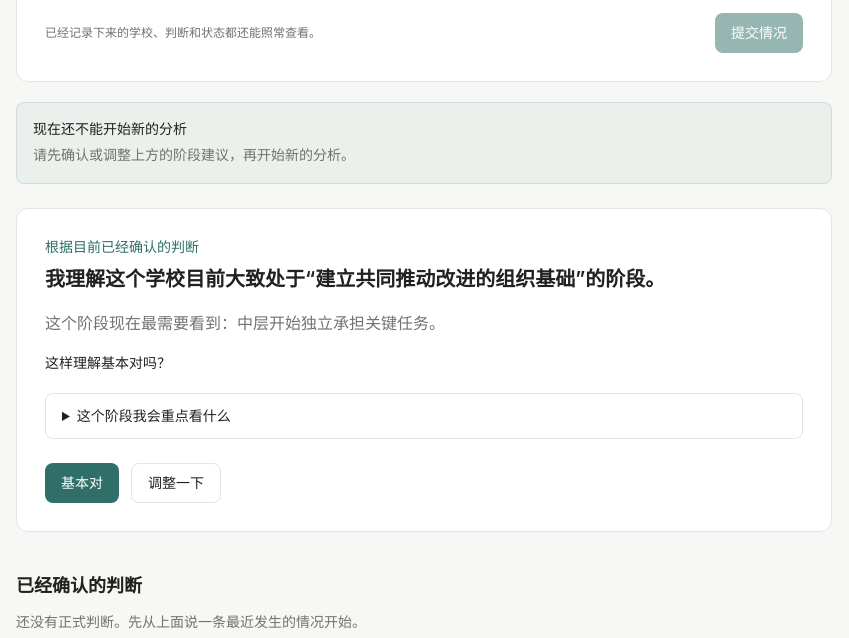
it: SchoolWorkspacePage › shows a quiet stage suggestion, accepts natural-language adjustment, then confirms it
The width and height of the screenshot is (849, 638).
(page scrolled)
Expected: the heading "我理解这个学校目前大致处于“建立共同推动改进的组织基础”的阶段。" is shown, [45,267,665,291]
Expected: the text "这样理解基本对吗？" is shown, [45,354,171,371]
Click the button "调整一下" at (176, 483), box [131,463,221,503]
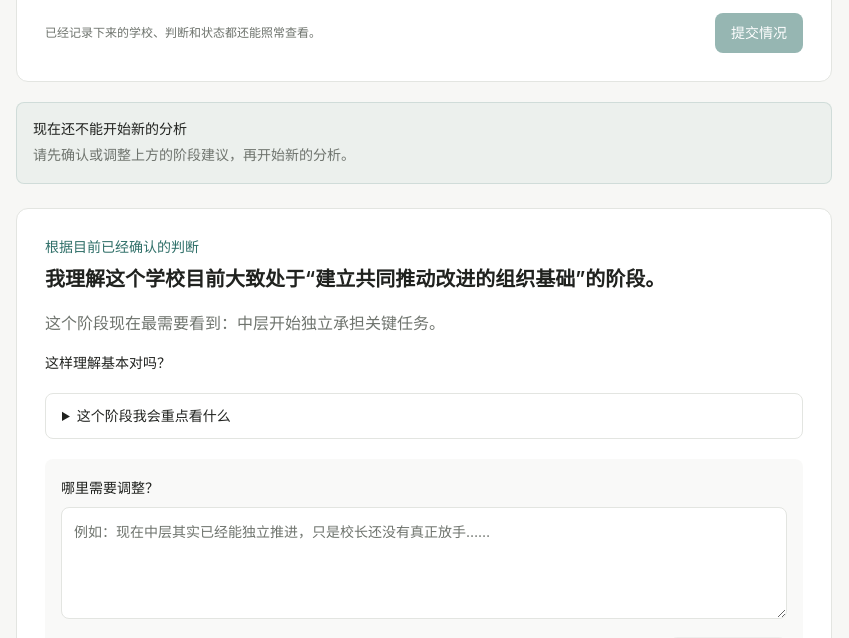
Type "目前更需要稳定教研复盘机制" into the text box labelled "哪里需要调整？" at (424, 563), box [61,507,787,619]
(page scrolled)
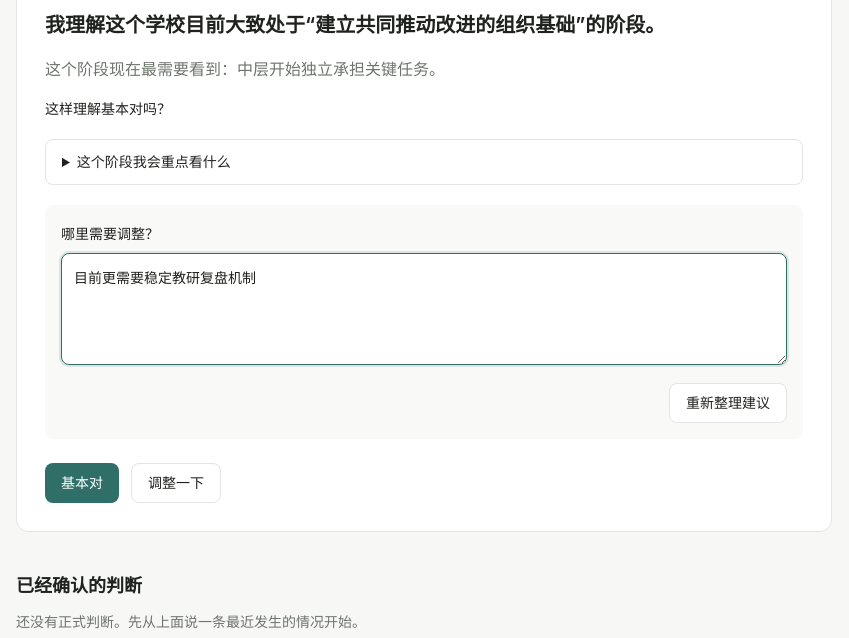
Click the button "重新整理建议" at (728, 403), box [669,383,787,423]
(page scrolled)
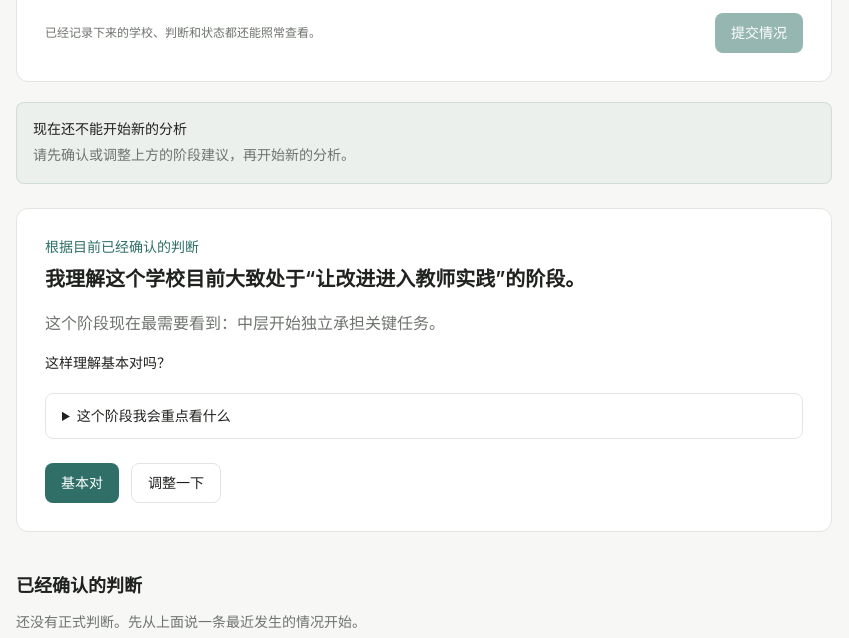
Expected: the heading "我理解这个学校目前大致处于“让改进进入教师实践”的阶段。" is shown, [45,267,585,291]
Click the button "基本对" at (82, 483), box [45,463,119,503]
(page scrolled)
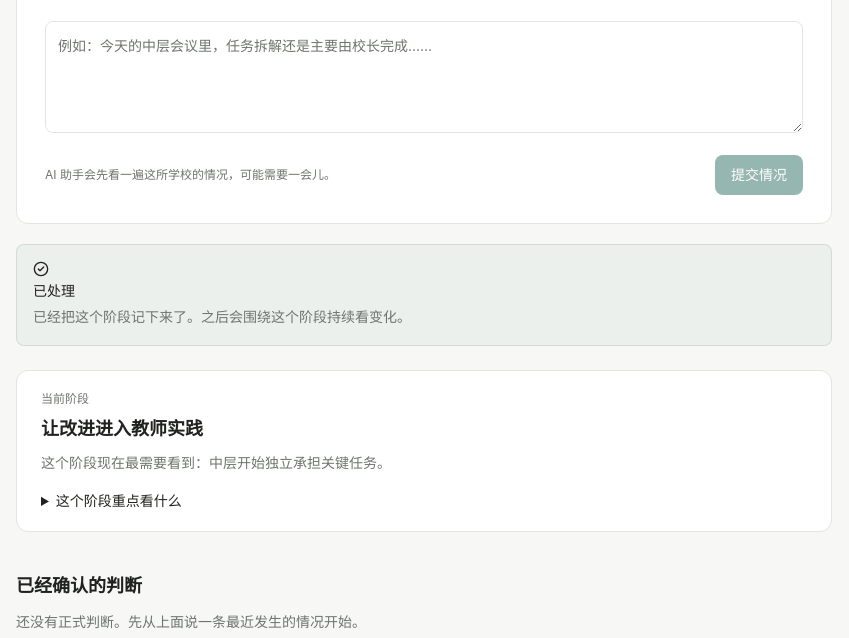
Expected: the heading "让改进进入教师实践" is shown, [41,418,203,439]
Expected: the text "当前阶段" is shown, [41,391,89,406]
